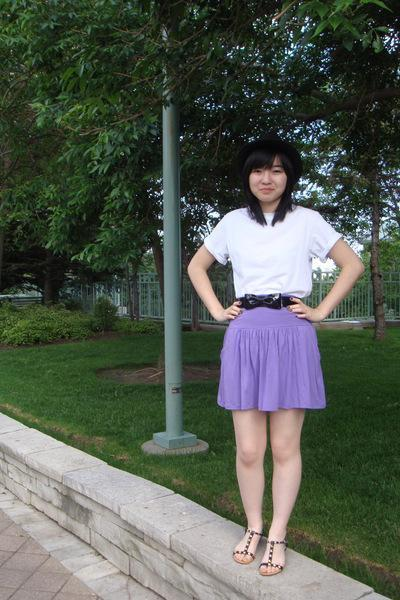shirt: (204, 206, 354, 298)
shoe: (232, 532, 283, 572)
skirt: (217, 301, 325, 412)
